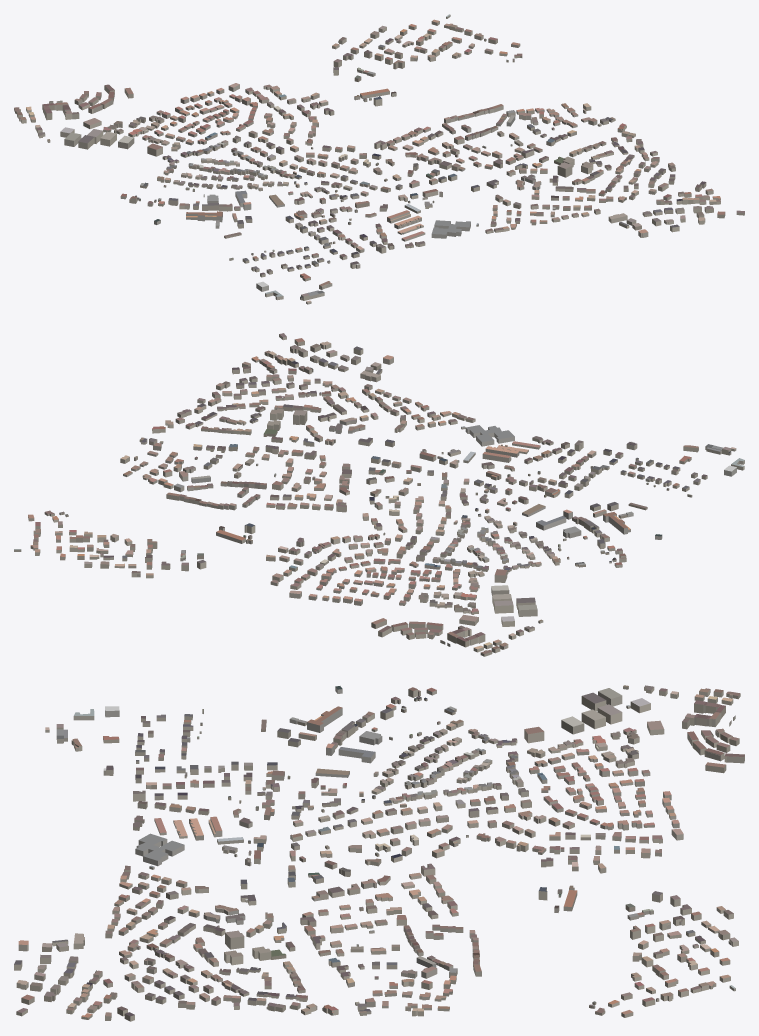
3 views of the same model, one above another, from view 1: azimuth 30°, elevation 25°; view 2: azimuth 150°, elevation 25°; view 3: azimuth 270°, elevation 25° (orthographic). The views are drawn at different scales.
Visible parts, largest first — view 1: tuile; view 2: tuile; view 3: tuile.
Boxes of the visible parts, x1,y1,x2,y2 form: tuile: (14,14,744,304); tuile: (14,333,744,656); tuile: (14,685,744,1021).
Size of the model in its own units: 1008 by 59.82 by 1017.
